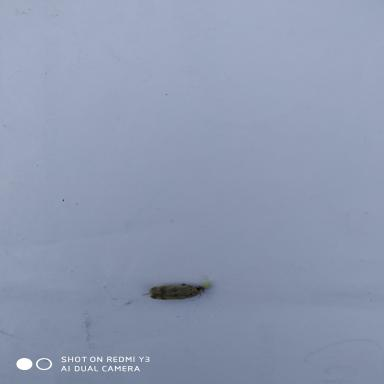pbw: (139, 273, 214, 302)
